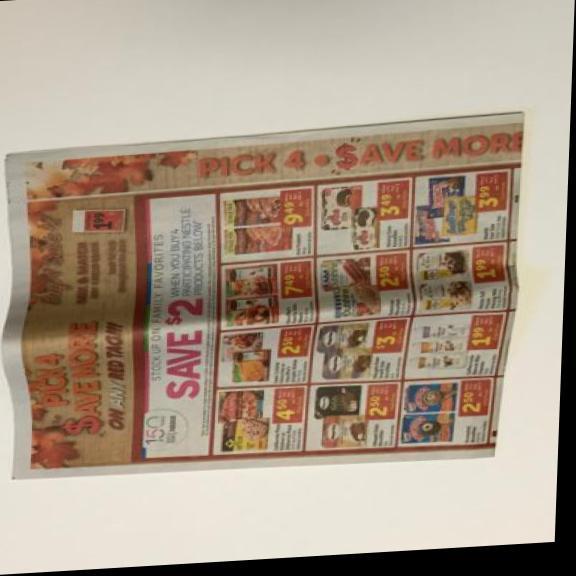Kertas: (0, 104, 534, 489)
